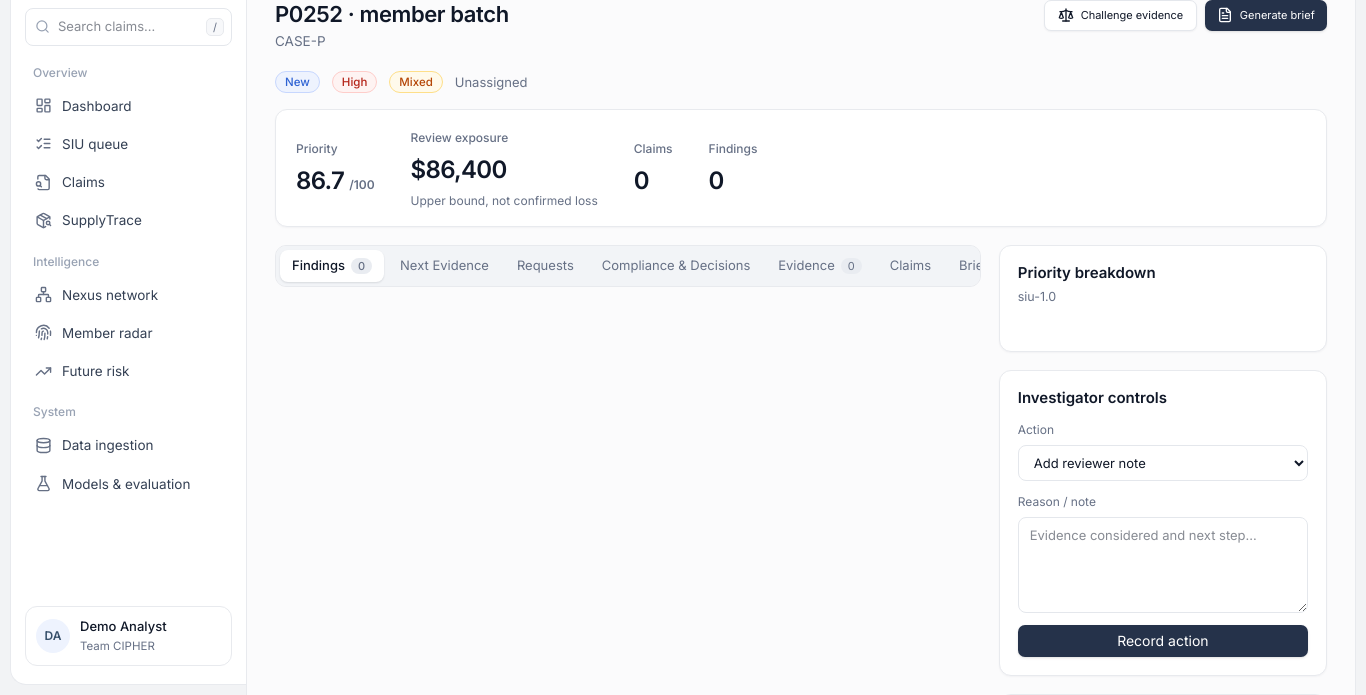
Test: Compliance & decisions › shows policy action statuses with reasons and missing requirements
The width and height of the screenshot is (1366, 695).
Step 1. Click the tab "Compliance & decisions" → [676, 266], box left=590, top=250, right=762, bottom=282
(page scrolled)
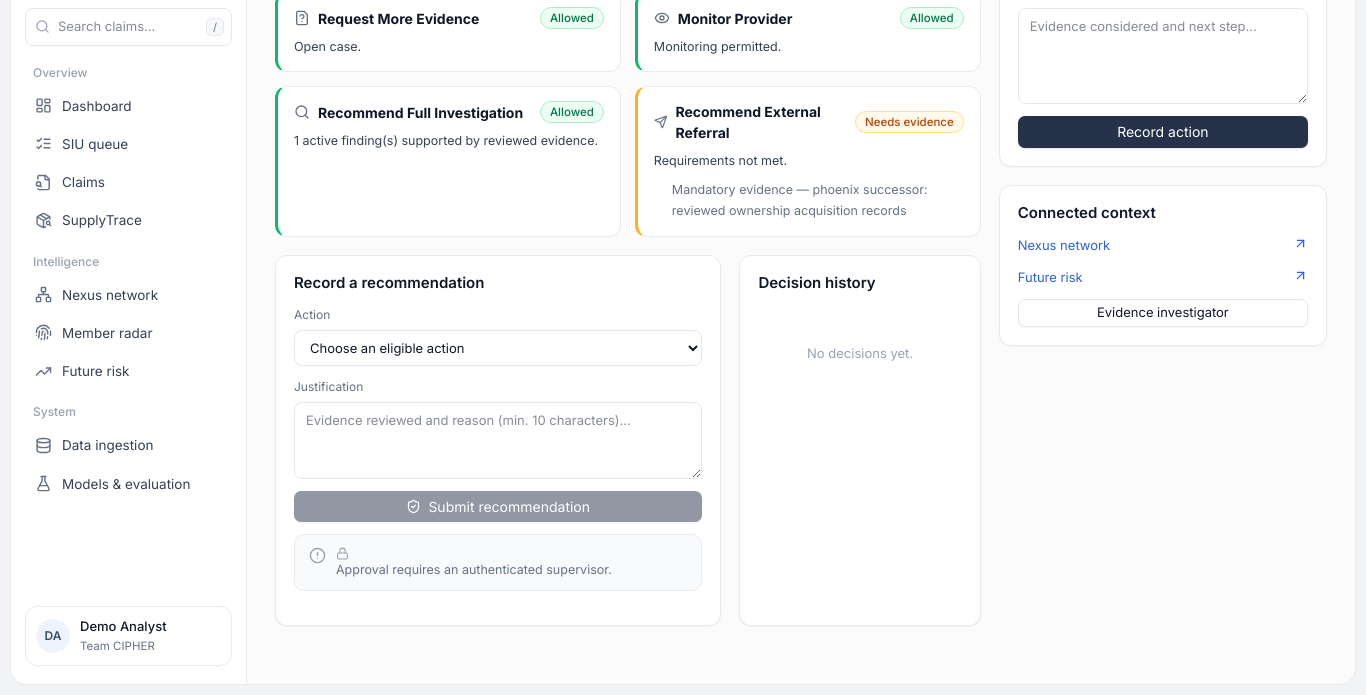
Check: the text "needs evidence" is shown, box left=855, top=111, right=964, bottom=133
Check: the list item "ownership acquisition records" is shown, box left=672, top=182, right=928, bottom=218
Check: the text "allowed" next to "Recommend Full Investigation" is shown, box left=550, top=105, right=594, bottom=119
